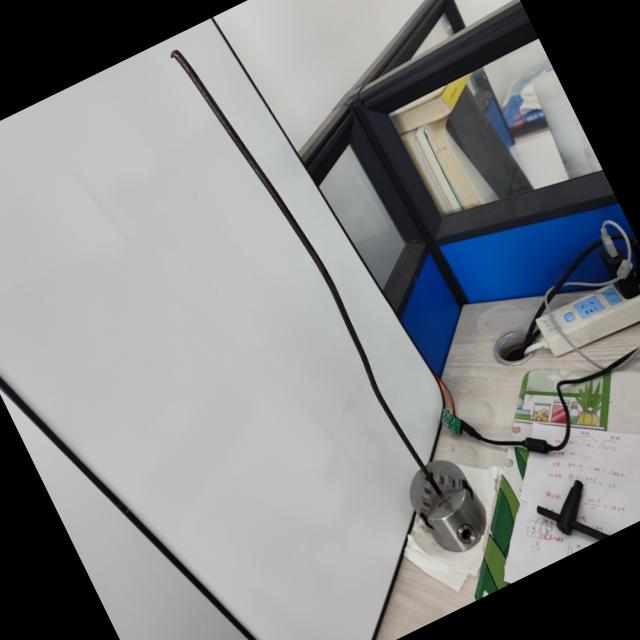plain round bar: (165, 24, 447, 503)
